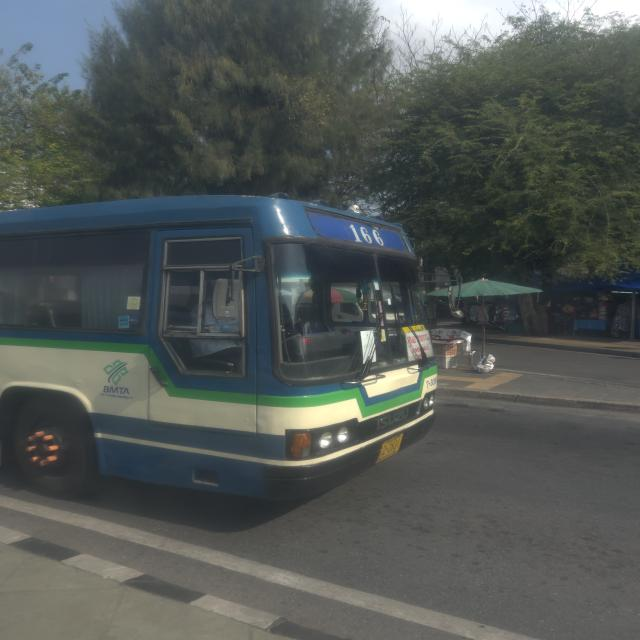BMTA-bus: (0, 196, 439, 504)
Bus-Line-Number: (341, 219, 391, 249)
Destination-Sign-Extra-Bus: (406, 330, 436, 360)
